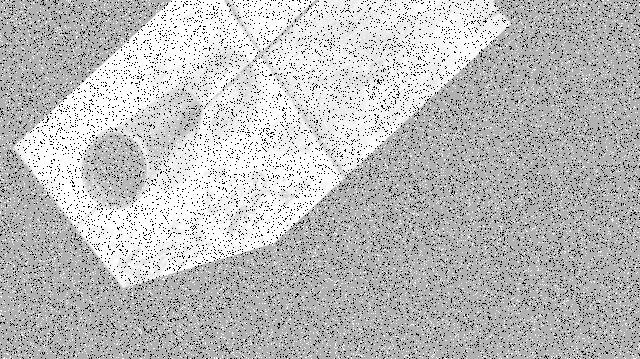pot: (80, 89, 200, 207)
